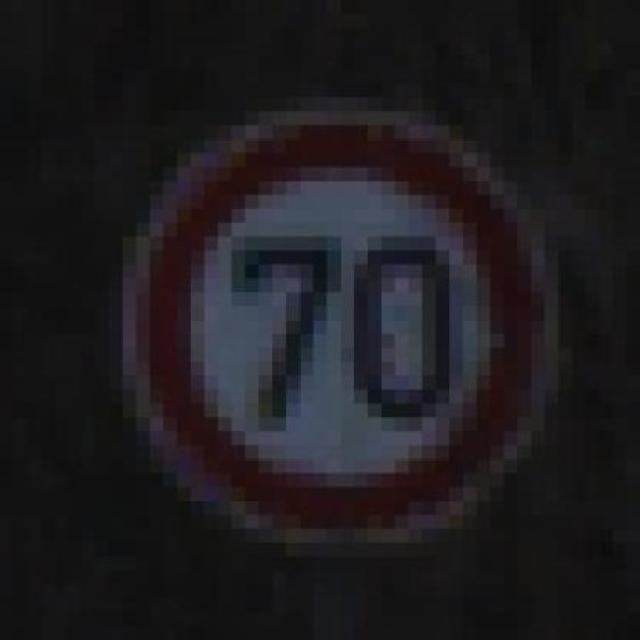forb_speed_over_70: (136, 119, 550, 539)
